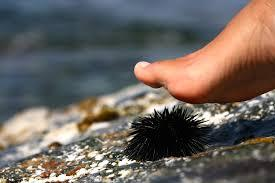urchin: (121, 103, 211, 162)
